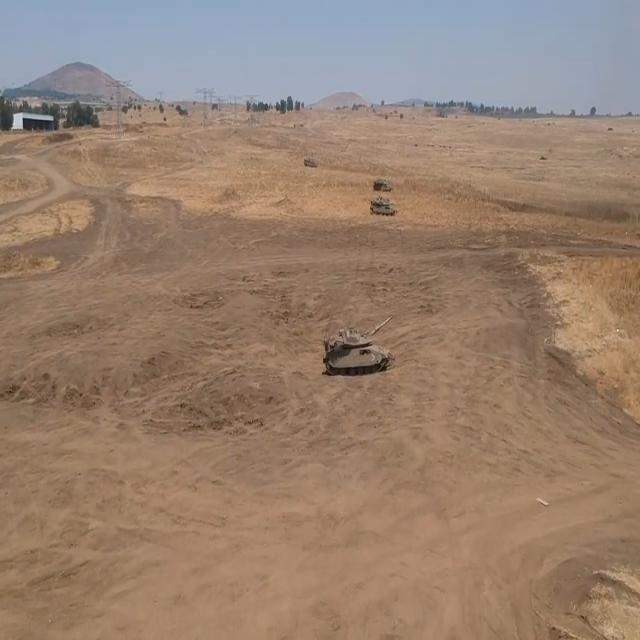tank: (324, 310, 400, 380), (364, 193, 396, 214), (372, 169, 393, 191), (304, 158, 320, 169)
